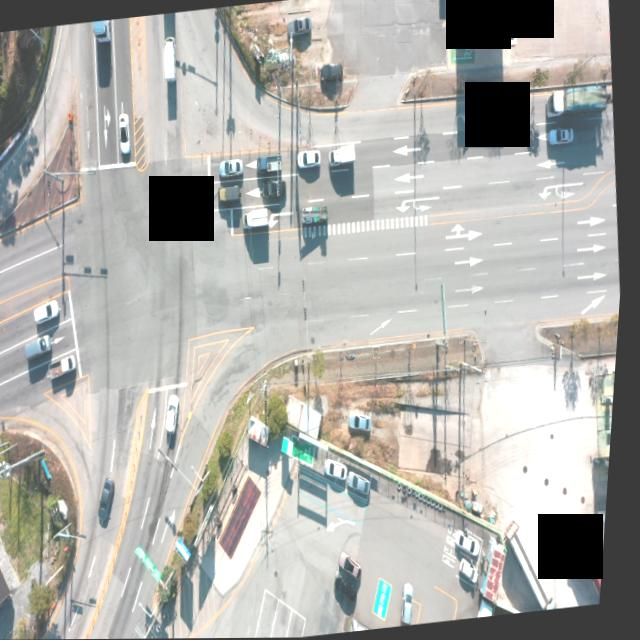car: (99, 477, 125, 529), (341, 572, 368, 608), (26, 335, 57, 362), (464, 530, 491, 560), (37, 299, 66, 325), (168, 394, 187, 433), (407, 584, 425, 625), (347, 552, 371, 582), (465, 558, 488, 588), (352, 472, 378, 498), (118, 113, 134, 155), (330, 456, 355, 482), (262, 182, 289, 202), (352, 412, 377, 433), (221, 187, 248, 206), (550, 129, 577, 148), (300, 148, 325, 168), (320, 62, 345, 82), (289, 17, 312, 37), (223, 158, 248, 176)
medium_truck: (511, 518, 568, 612), (552, 86, 615, 119), (93, 20, 113, 44)
small_truck: (51, 354, 82, 381), (302, 203, 334, 228), (158, 181, 175, 226), (161, 39, 179, 81), (330, 143, 359, 167), (245, 207, 274, 231), (257, 156, 284, 176)
